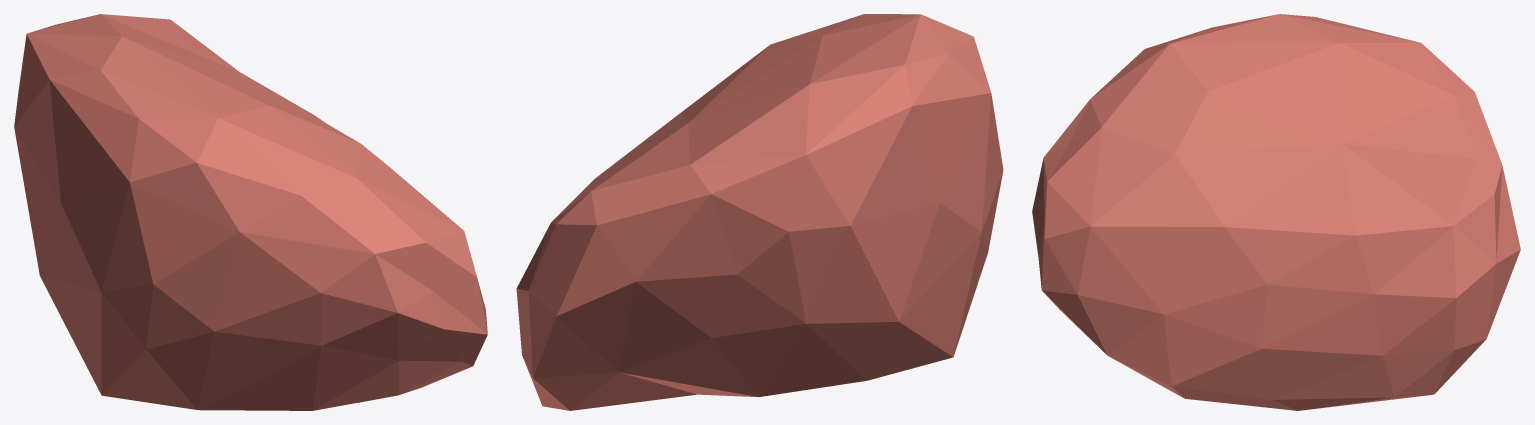
3 views of the same model, side by side, from view 1: azimuth 30°, elevation 25°; view 2: azimuth 150°, elevation 25°; view 3: azimuth 270°, elevation 25° (orthographic). The views are drawn at different scales.
Parts seen in each view (by area): view 1: 606826655.obj; view 2: 606826655.obj; view 3: 606826655.obj.
Part boxes in pixels (x1,y1,x2,y2): 606826655.obj: (14,14,487,410); 606826655.obj: (516,14,1003,410); 606826655.obj: (1032,14,1520,410).
Bounding box in the file's own units: 280 × 290 × 439.
